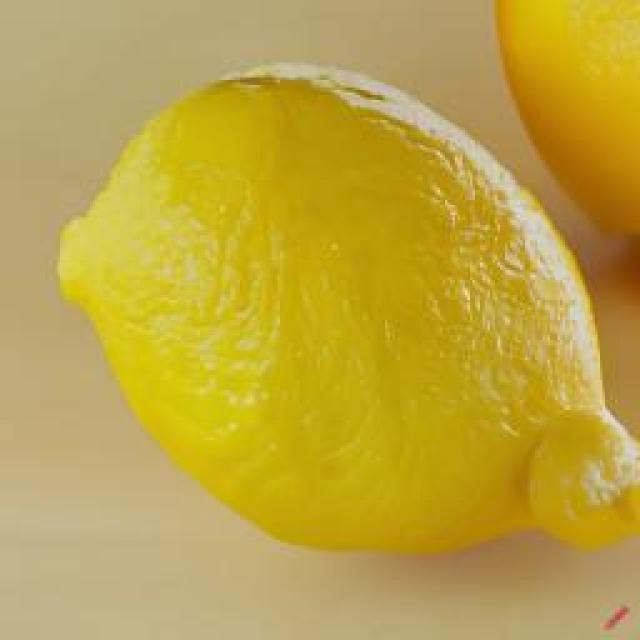Lemon: (55, 63, 640, 558)
